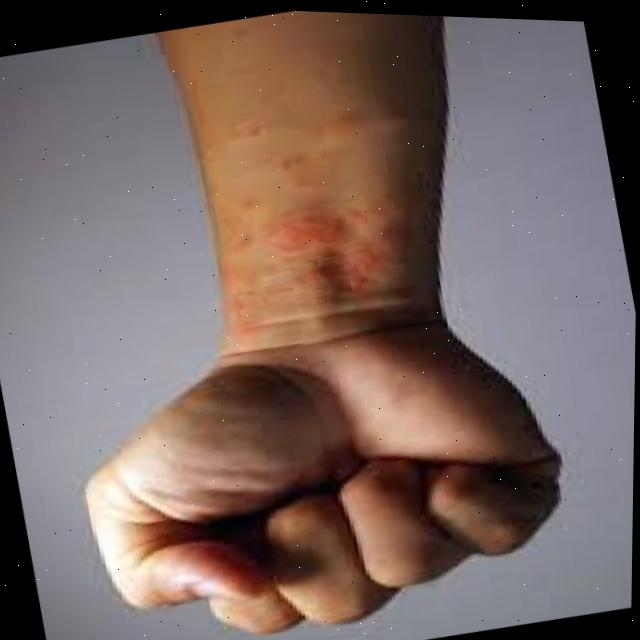Eczema: (206, 70, 449, 344)
